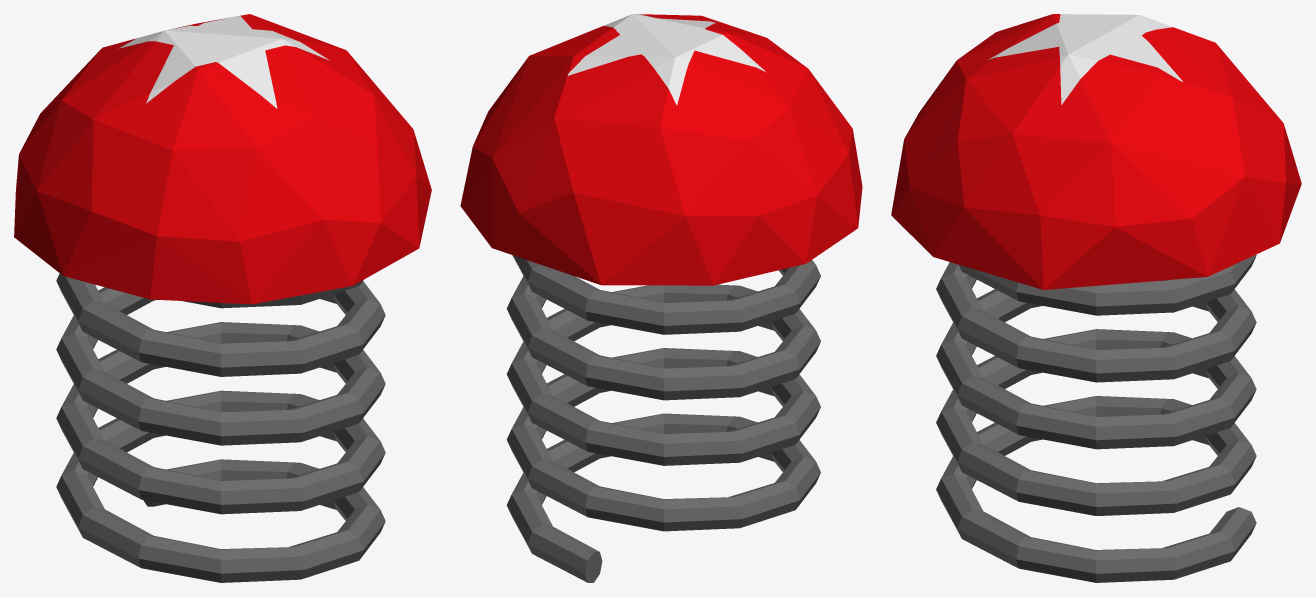
Rendered from Boundpads.fbx.
3 views of the same model, side by side, from view 1: azimuth 30°, elevation 25°; view 2: azimuth 150°, elevation 25°; view 3: azimuth 270°, elevation 25° (orthographic). The views are drawn at different scales.
Parts seen in each view (by area): view 1: Icosphere.005; view 2: Icosphere.005; view 3: Icosphere.005.
Part boxes in pixels (x1,y1,x2,y2): Icosphere.005: (14, 14, 431, 582); Icosphere.005: (460, 14, 862, 582); Icosphere.005: (891, 14, 1301, 582).
Size of the model in its own units: 201 by 275 by 202.
